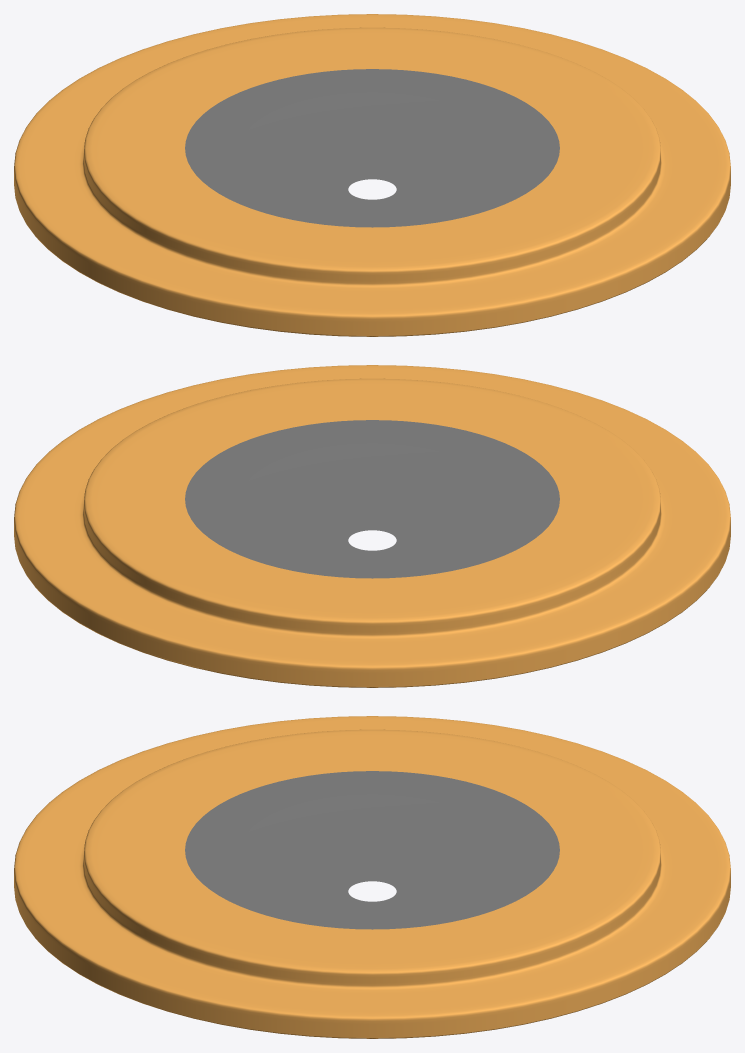
Rendered from Plasma Interface.fbx.
3 renders of one model, top to bottom at view 1: azimuth 30°, elevation 25°; view 2: azimuth 150°, elevation 25°; view 3: azimuth 270°, elevation 25°, orthographic.
Visible parts, largest first — view 1: Plasma Interface; view 2: Plasma Interface; view 3: Plasma Interface.
Boxes of the visible parts, x1,y1,x2,y2 form: Plasma Interface: (14,14,730,336); Plasma Interface: (14,365,730,687); Plasma Interface: (14,716,730,1038).
Size of the model in its own units: 102 by 6.47 by 102.
